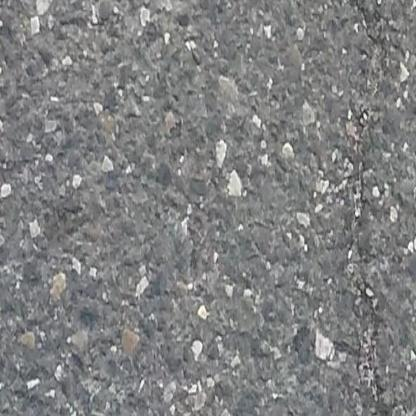Cracks: (356, 309, 398, 416)
